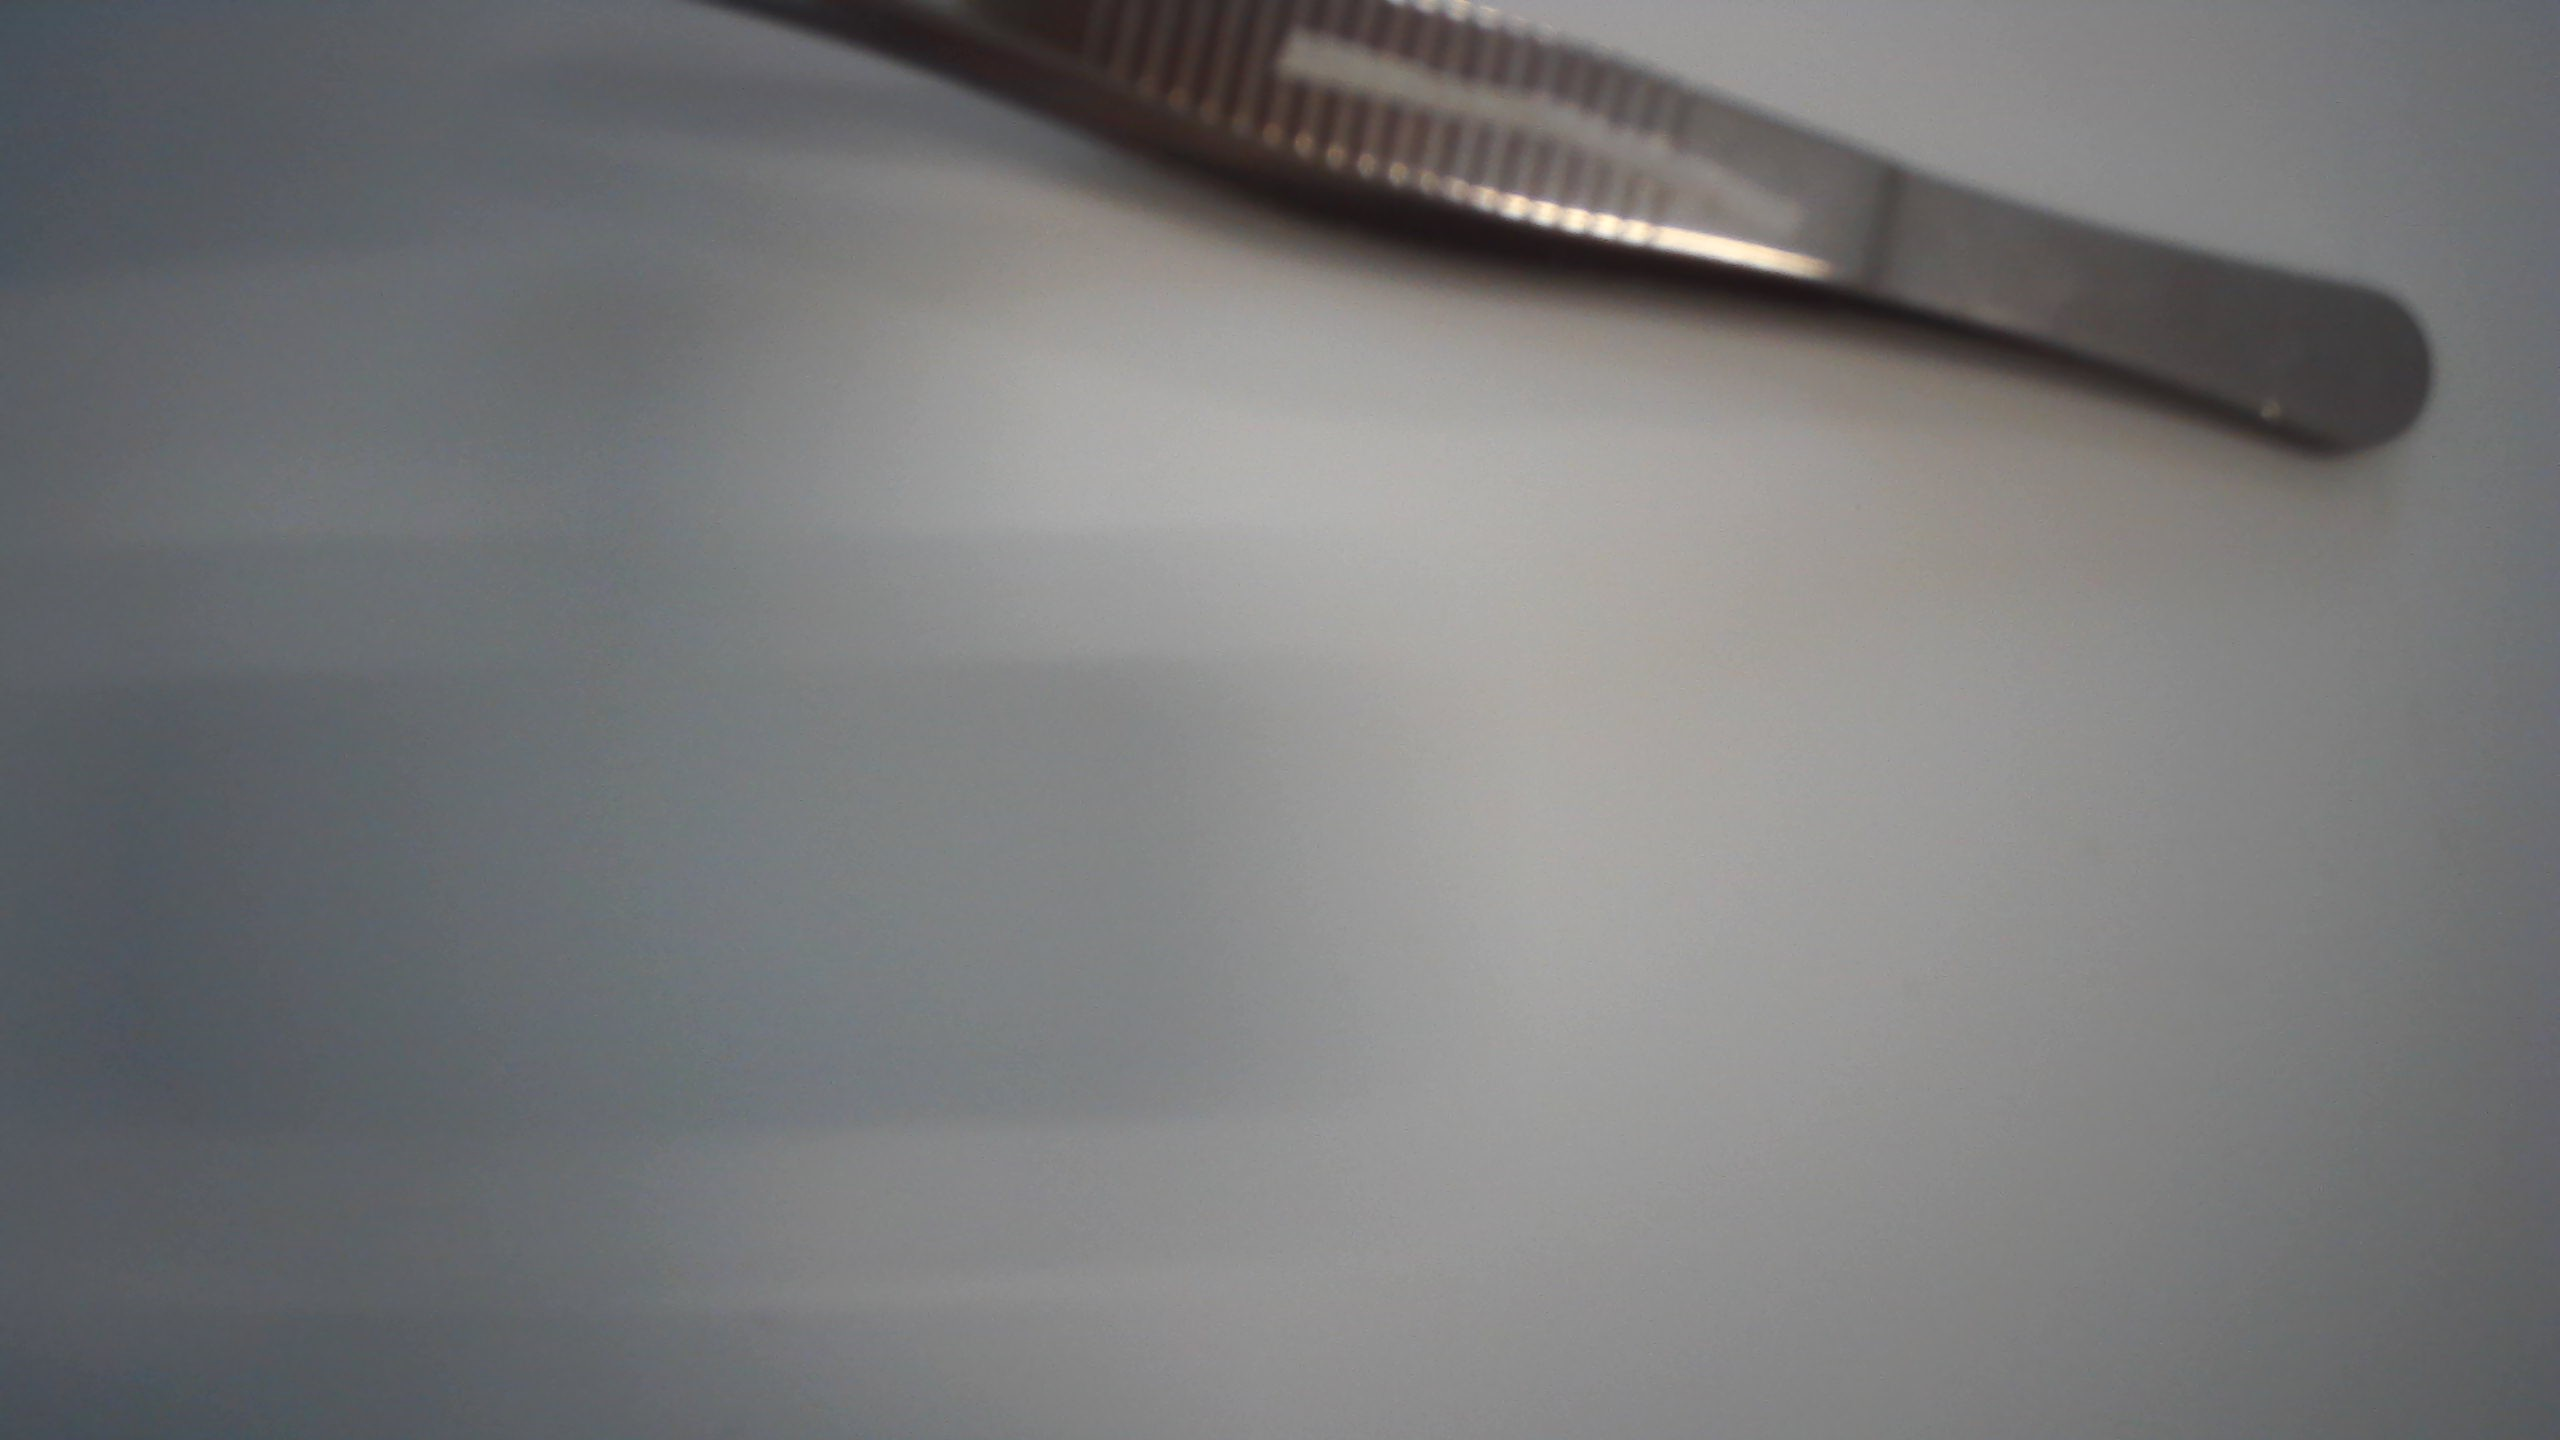Scratches: (1268, 11, 1829, 281)
